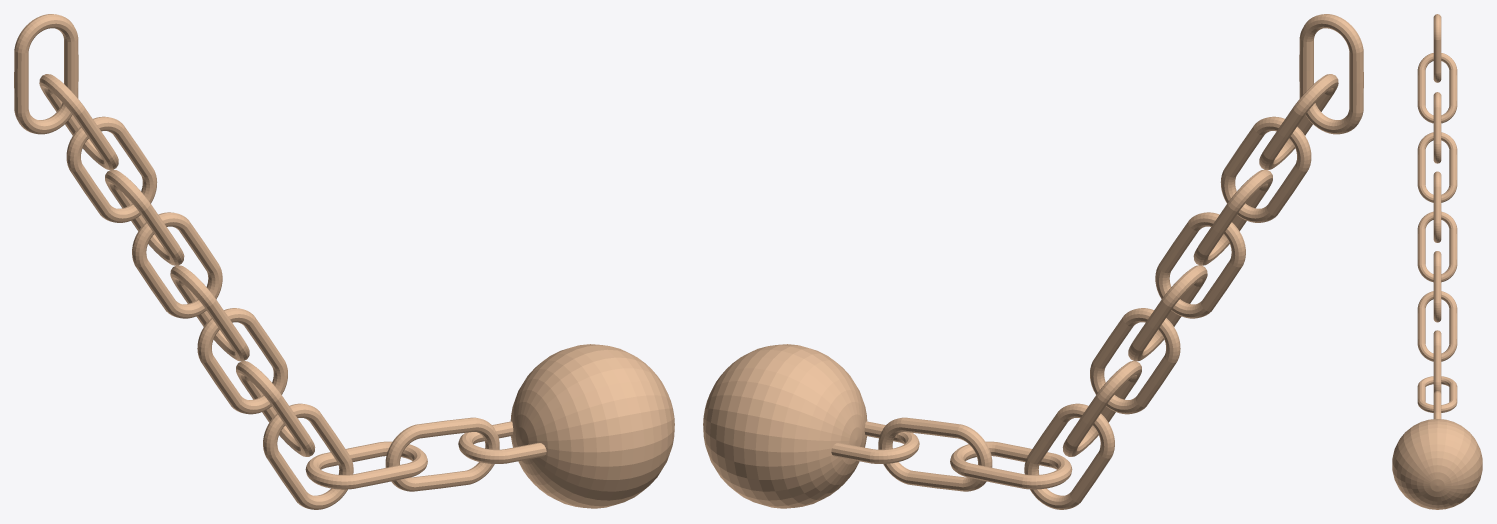
File: chain.glb
3 views of the same model, side by side, from view 1: azimuth 30°, elevation 25°; view 2: azimuth 150°, elevation 25°; view 3: azimuth 270°, elevation 25° (orthographic). The views are drawn at different scales.
Parts seen in each view (by area): view 1: Torus, Static, Torus.001, Torus.009, Torus.007, Torus.005, Torus.003, Torus.002, Torus.010, Torus.006, Torus.008, Torus.004; view 2: Torus, Static, Torus.001, Torus.009, Torus.007, Torus.005, Torus.003, Torus.002, Torus.010, Torus.006, Torus.008, Torus.004; view 3: Torus, Torus.008, Torus.004, Torus.010, Torus.006, Torus.002, Torus.009, Torus.005, Torus.007, Static, Torus.003, Torus.001.
Boxes of the visible parts, x1=… form: Torus: x1=458, y1=344, x2=674, y2=508; Static: x1=14, y1=14, x2=78, y2=134; Torus.001: x1=385, y1=417, x2=499, y2=491; Torus.009: x1=66, y1=116, x2=157, y2=222; Torus.007: x1=132, y1=212, x2=222, y2=318; Torus.005: x1=197, y1=308, x2=287, y2=414; Torus.003: x1=263, y1=403, x2=353, y2=509; Torus.002: x1=305, y1=441, x2=427, y2=489; Torus.010: x1=39, y1=74, x2=118, y2=169; Torus.006: x1=170, y1=265, x2=249, y2=361; Torus.008: x1=105, y1=169, x2=184, y2=265; Torus.004: x1=236, y1=361, x2=315, y2=456; Torus: x1=703, y1=344, x2=919, y2=508; Static: x1=1299, y1=14, x2=1363, y2=134; Torus.001: x1=878, y1=417, x2=992, y2=491; Torus.009: x1=1220, y1=116, x2=1311, y2=222; Torus.007: x1=1155, y1=212, x2=1245, y2=318; Torus.005: x1=1090, y1=308, x2=1180, y2=414; Torus.003: x1=1024, y1=403, x2=1114, y2=509; Torus.002: x1=950, y1=441, x2=1072, y2=489; Torus.010: x1=1259, y1=74, x2=1338, y2=169; Torus.006: x1=1128, y1=265, x2=1207, y2=361; Torus.008: x1=1193, y1=169, x2=1272, y2=265; Torus.004: x1=1062, y1=361, x2=1141, y2=456; Torus: x1=1392, y1=419, x2=1482, y2=509; Torus.008: x1=1417, y1=132, x2=1457, y2=202; Torus.004: x1=1417, y1=291, x2=1457, y2=361; Torus.010: x1=1417, y1=53, x2=1457, y2=123; Torus.006: x1=1417, y1=211, x2=1457, y2=282; Torus.002: x1=1417, y1=376, x2=1457, y2=412; Torus.009: x1=1433, y1=92, x2=1441, y2=163; Torus.005: x1=1433, y1=251, x2=1441, y2=322; Torus.007: x1=1433, y1=171, x2=1441, y2=242; Static: x1=1433, y1=14, x2=1441, y2=82; Torus.003: x1=1433, y1=330, x2=1441, y2=393; Torus.001: x1=1433, y1=391, x2=1441, y2=418.
Bounding box in the file's own units: 20.74 × 18.9 × 4.54.
